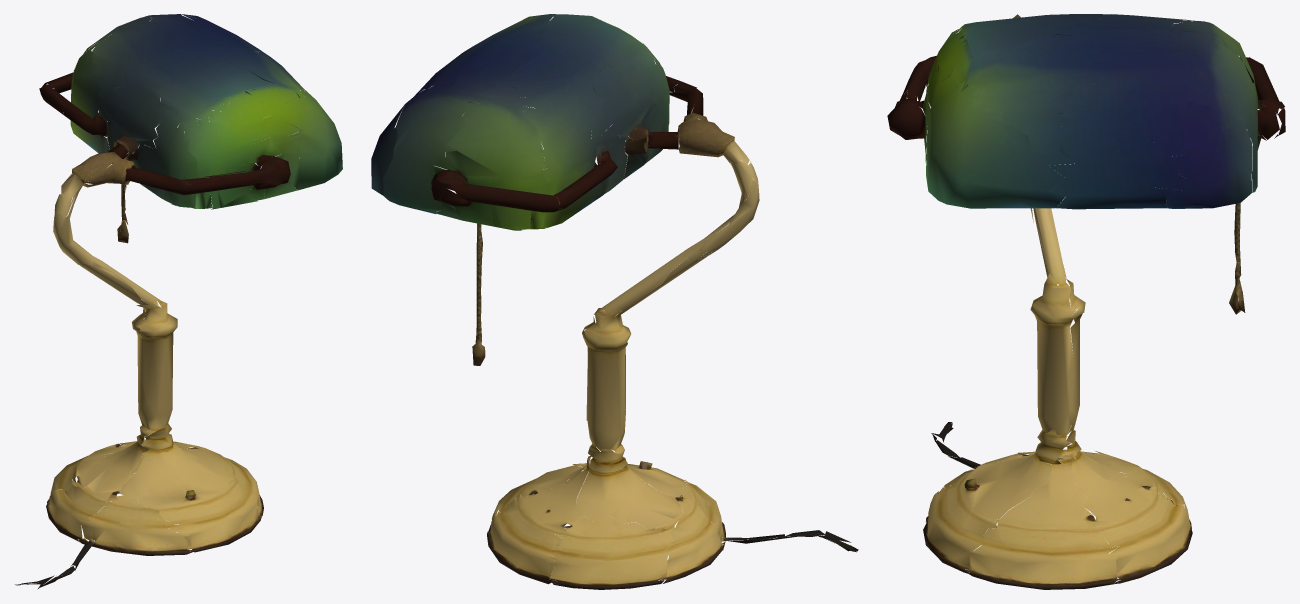
The model's file is hf_lamp.glb.
The picture shows the model from 3 angles, left to right: view 1: azimuth 30°, elevation 25°; view 2: azimuth 150°, elevation 25°; view 3: azimuth 270°, elevation 25°; orthographic projection. The views are drawn at different scales.
Parts seen in each view (by area): view 1: tripo_node_9ce5832f-0c20-4d76-8398-f8f05d286527; view 2: tripo_node_9ce5832f-0c20-4d76-8398-f8f05d286527; view 3: tripo_node_9ce5832f-0c20-4d76-8398-f8f05d286527.
Boxes of the visible parts, <box> form: tripo_node_9ce5832f-0c20-4d76-8398-f8f05d286527: <box>15,14,342,589</box>; tripo_node_9ce5832f-0c20-4d76-8398-f8f05d286527: <box>371,14,858,589</box>; tripo_node_9ce5832f-0c20-4d76-8398-f8f05d286527: <box>887,14,1285,589</box>.
Bounding box in the file's own units: 0.8024 × 1 × 0.6748.
1 material, 1 textured.
